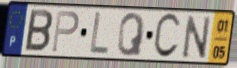B: (22, 8, 54, 55)
C: (151, 12, 182, 61)
L: (88, 10, 110, 58)
N: (181, 13, 212, 60)
P: (50, 9, 81, 55)
Q: (116, 12, 147, 59)
